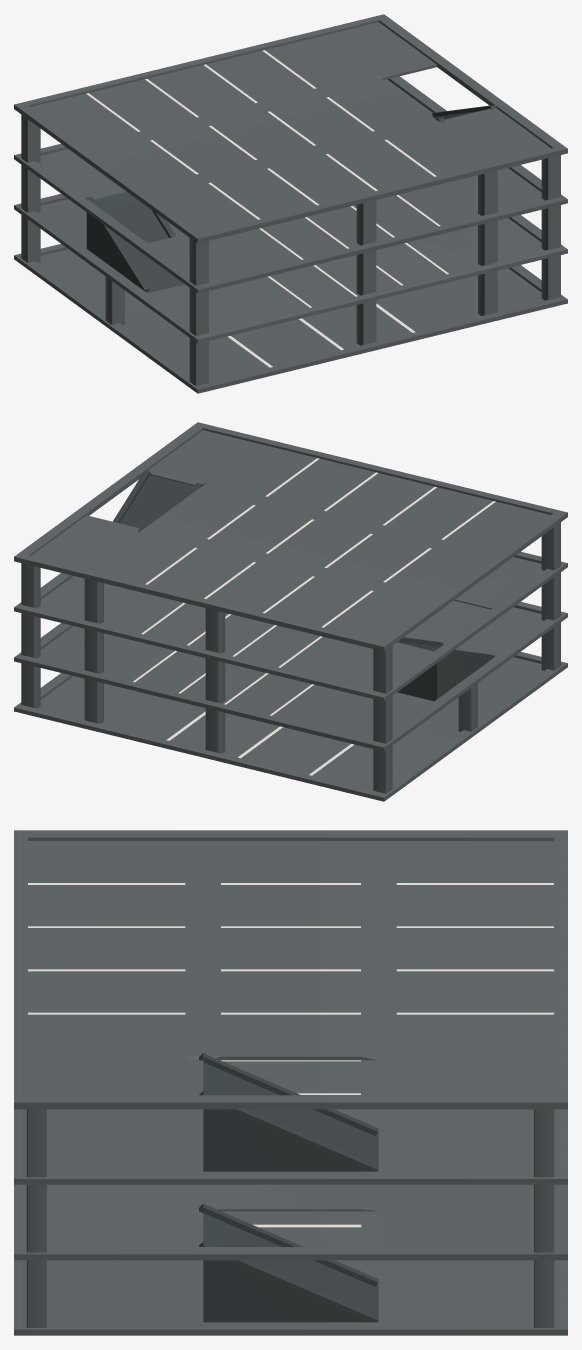
The model's file is infrastructure-building-ms-parking-lot.fbx.
3 renders of one model, top to bottom at view 1: azimuth 30°, elevation 25°; view 2: azimuth 150°, elevation 25°; view 3: azimuth 270°, elevation 25°, orthographic. The views are drawn at different scales.
Visible parts, largest first — view 1: infrastructure-building-ms-parking-lot; view 2: infrastructure-building-ms-parking-lot; view 3: infrastructure-building-ms-parking-lot.
Part boxes in pixels (x1=…): infrastructure-building-ms-parking-lot: x1=14, y1=14, x2=567, y2=393; infrastructure-building-ms-parking-lot: x1=14, y1=422, x2=567, y2=801; infrastructure-building-ms-parking-lot: x1=14, y1=830, x2=567, y2=1335.
Bounding box in the file's own units: 3329 × 1332 × 2864.
1 material, 1 textured.
